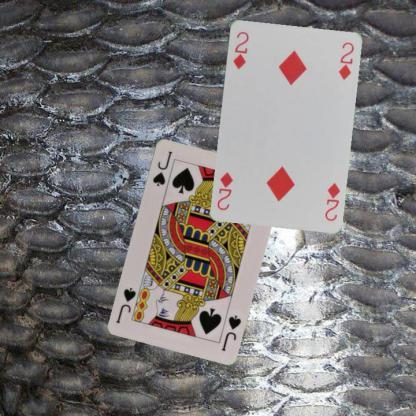2d: (230, 28, 250, 70), (322, 180, 341, 222)
Js: (150, 148, 174, 187), (219, 312, 242, 352)
